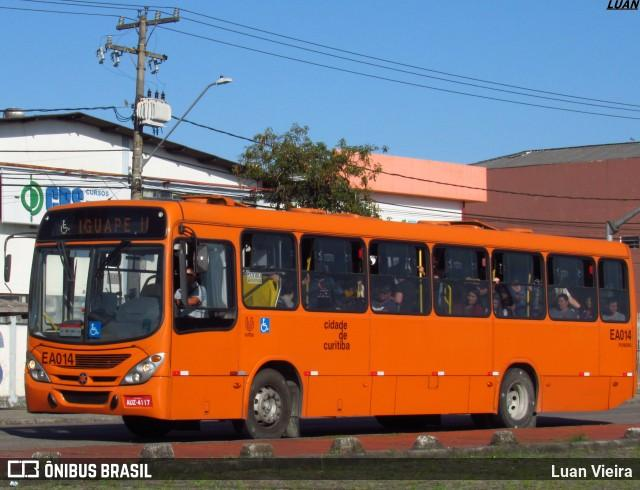IGUAPE II: (73, 214, 153, 237)
